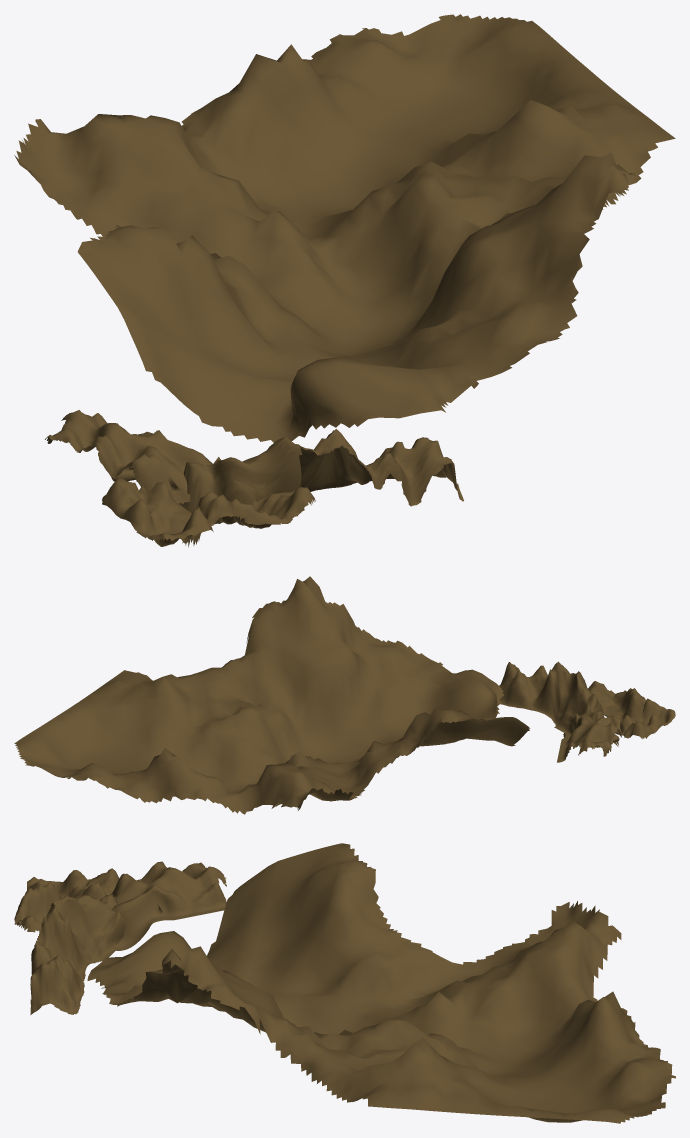
Rendered from blockout_mountains.glb.
The picture shows the model from 3 angles, top to bottom: view 1: azimuth 30°, elevation 25°; view 2: azimuth 150°, elevation 25°; view 3: azimuth 270°, elevation 25°; orthographic projection. The views are drawn at different scales.
Visible parts, largest first — view 1: Landscape.013, Landscape.011, Landscape.012, Landscape.002, Landscape 1; view 2: Landscape.013, Landscape.011, Landscape.012, Landscape 1, Landscape.002; view 3: Landscape.013, Landscape.011, Landscape.012, Landscape.002, Landscape 1.
Boxes of the visible parts, bbox=[...] form: Landscape.013: bbox=[14, 14, 675, 442]; Landscape.011: bbox=[179, 429, 463, 547]; Landscape.012: bbox=[45, 410, 213, 503]; Landscape.002: bbox=[102, 478, 213, 546]; Landscape 1: bbox=[180, 486, 315, 543]; Landscape.013: bbox=[14, 576, 529, 814]; Landscape.011: bbox=[499, 661, 618, 747]; Landscape.012: bbox=[557, 714, 624, 762]; Landscape 1: bbox=[588, 681, 646, 722]; Landscape.002: bbox=[616, 698, 675, 739]; Landscape.013: bbox=[87, 843, 675, 1123]; Landscape.011: bbox=[30, 894, 125, 1014]; Landscape.012: bbox=[111, 861, 226, 950]; Landscape.002: bbox=[27, 868, 119, 899]; Landscape 1: bbox=[14, 882, 61, 932].
Bounding box in the file's own units: 596 × 167 × 592.
